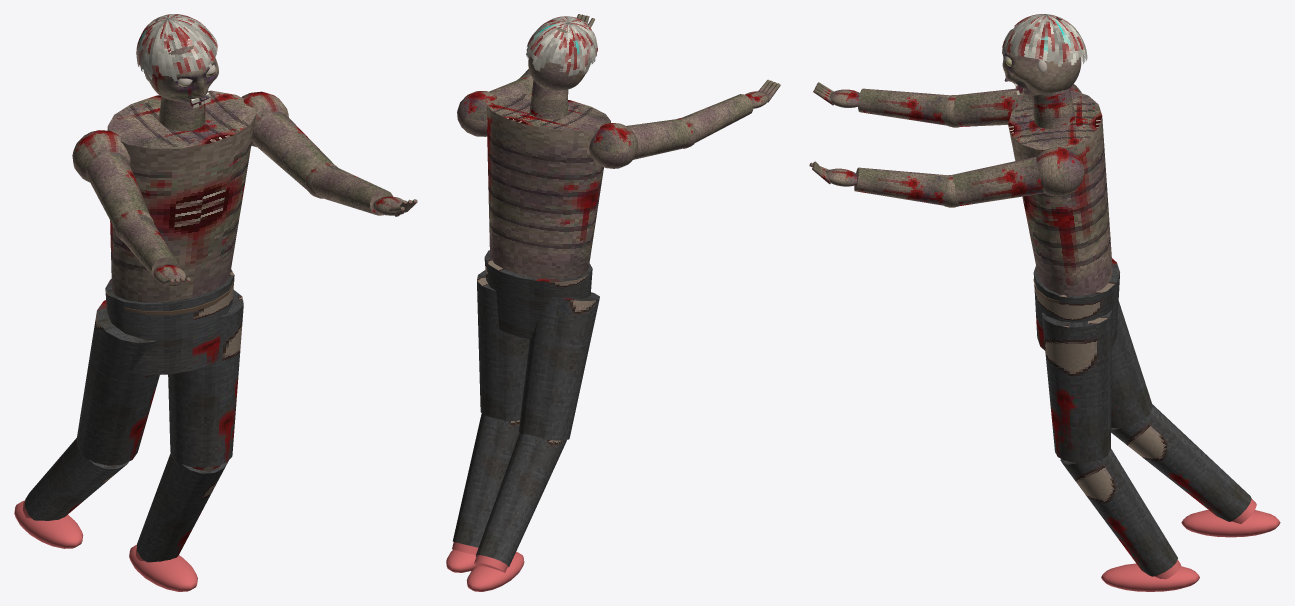
The model's file is Zombie_118.glb.
The picture shows the model from 3 angles, left to right: view 1: azimuth 30°, elevation 25°; view 2: azimuth 150°, elevation 25°; view 3: azimuth 270°, elevation 25°; orthographic projection. The views are drawn at different scales.
Visible parts, largest first — view 1: Zombie_118, object 42, object 10, object 3, object 16; view 2: Zombie_118, object 42, object 3, object 16; view 3: Zombie_118, object 42, object 10, object 3, object 16.
Part boxes in pixels (x1,y1,x2,y2): Zombie_118: (14,90,333,591); object 42: (136,14,217,78); object 10: (311,165,393,215); object 3: (118,214,178,277); object 16: (149,45,218,103); Zombie_118: (446,79,691,591); object 42: (526,16,597,74); object 3: (682,94,753,142); object 16: (528,27,590,90); Zombie_118: (952,84,1280,591); object 42: (1002,14,1087,63); object 10: (854,167,948,205); object 3: (858,88,949,125); object 16: (1002,51,1081,97).
Bounding box in the file's own units: 0.7684 × 1.82 × 1.41.
Materials: 16 (6 with a texture image).
